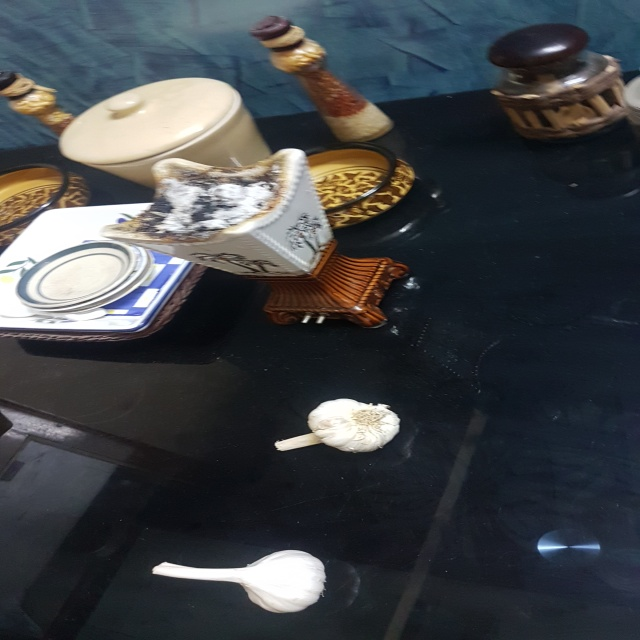garlic: (146, 550, 331, 615), (273, 395, 403, 467)
